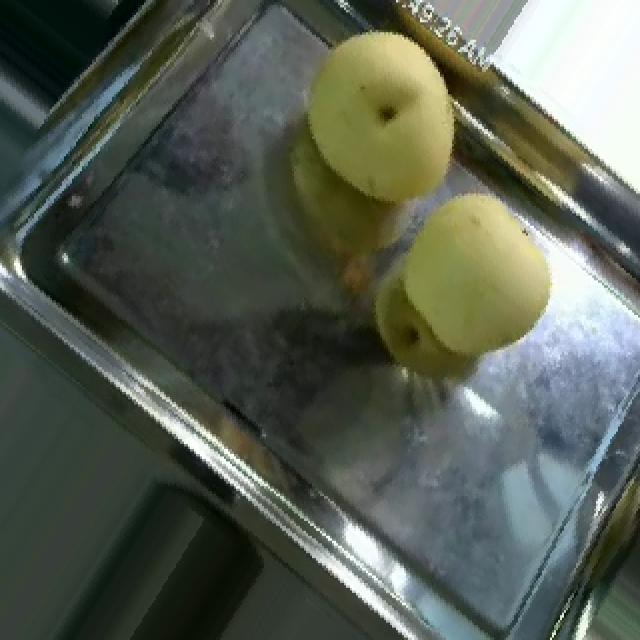Fruit: (344, 162, 578, 394), (264, 0, 490, 236)
